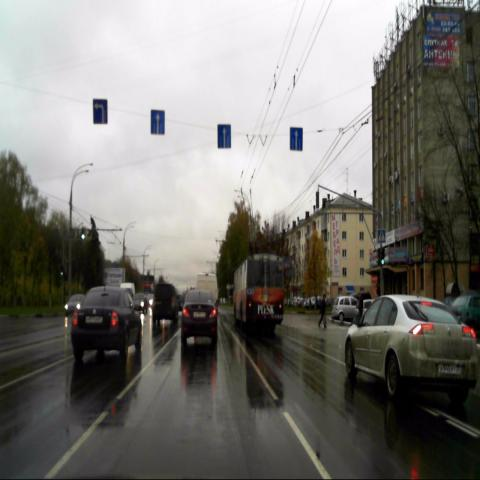5_15_2: (93, 97, 108, 126), (217, 123, 231, 148), (151, 110, 165, 134), (290, 128, 302, 152)
5_19_1: (377, 228, 385, 242)
